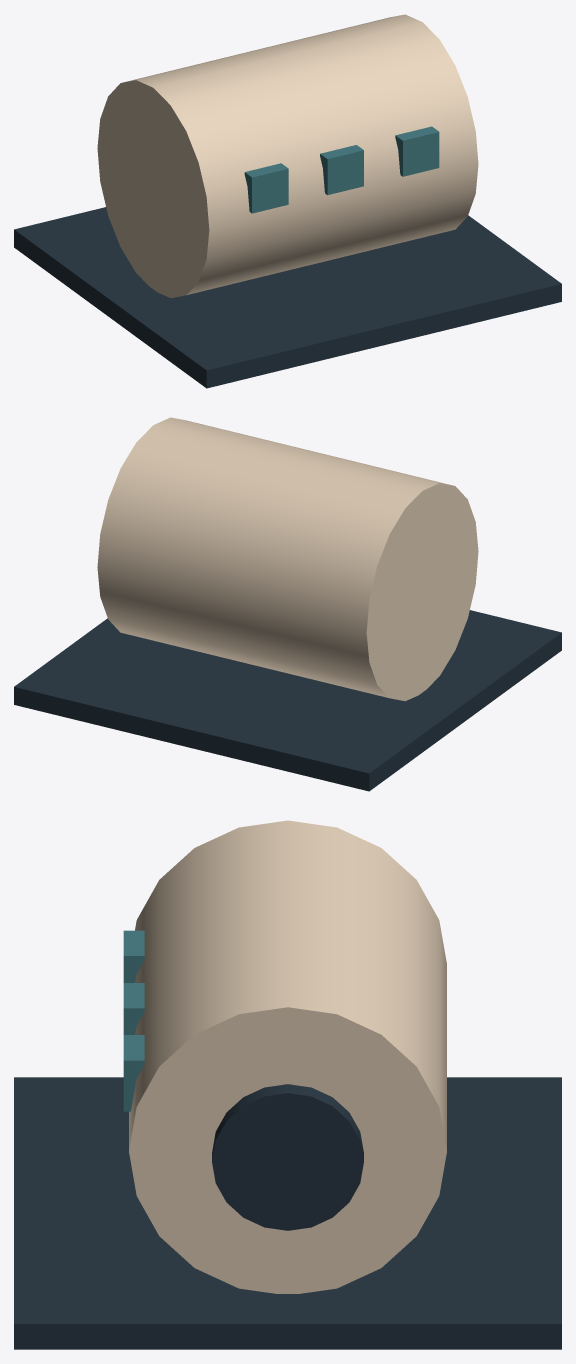
Rendered from habitat.glb.
The picture shows the model from 3 angles, top to bottom: view 1: azimuth 30°, elevation 25°; view 2: azimuth 150°, elevation 25°; view 3: azimuth 270°, elevation 25°; orthographic projection. The views are drawn at different scales.
Parts seen in each view (by area): view 1: habitat; view 2: habitat; view 3: habitat.
Boxes of the visible parts, left/top/right/bottom form: habitat: left=14, top=14, right=561, bottom=388; habitat: left=14, top=417, right=561, bottom=791; habitat: left=14, top=820, right=561, bottom=1349.
Size of the model in its own units: 3.3 by 1.95 by 3.1.
